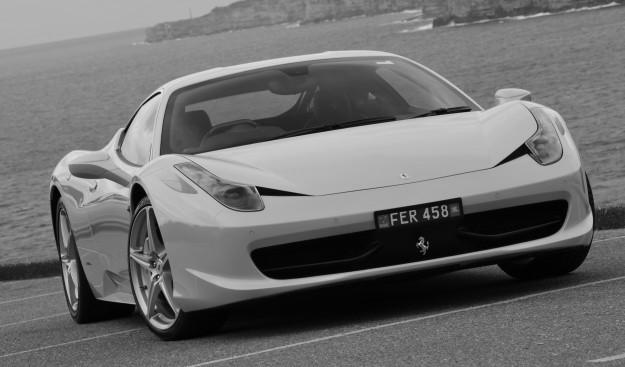car: (49, 45, 597, 338)
